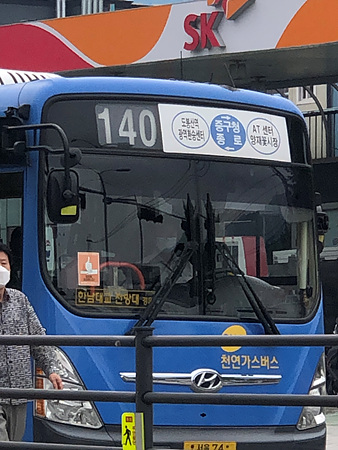bnum: (95, 104, 160, 149)
